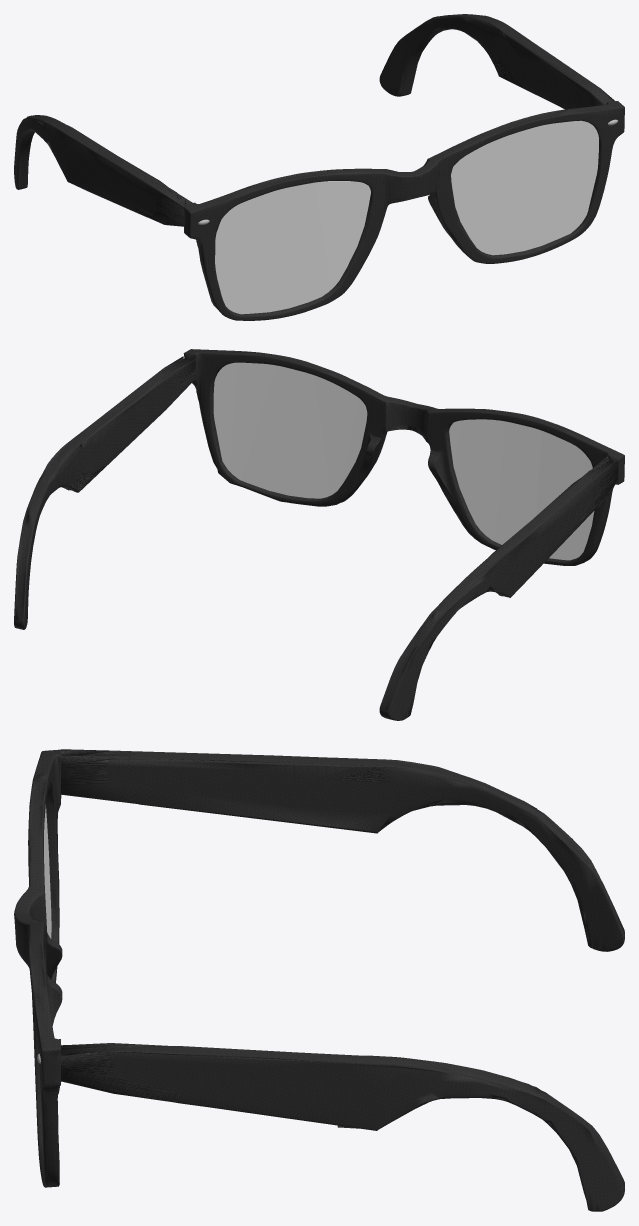
File: sun-glasses.glb
The picture shows the model from 3 angles, top to bottom: view 1: azimuth 30°, elevation 25°; view 2: azimuth 150°, elevation 25°; view 3: azimuth 270°, elevation 25°; orthographic projection. The views are drawn at different scales.
Parts seen in each view (by area): view 1: Sunglasses Ray Ban N290618; view 2: Sunglasses Ray Ban N290618; view 3: Sunglasses Ray Ban N290618.
Boxes of the visible parts, bbox=[...] form: Sunglasses Ray Ban N290618: bbox=[14, 14, 624, 320]; Sunglasses Ray Ban N290618: bbox=[14, 349, 624, 720]; Sunglasses Ray Ban N290618: bbox=[14, 749, 624, 1211].
Size of the model in its own units: 0.1626 by 0.049 by 0.1372.
3 materials, 2 textured.
